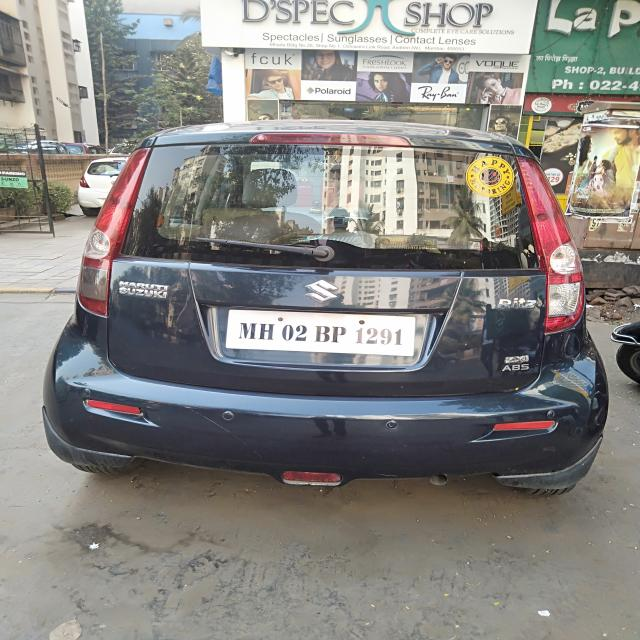Number-Plate: (226, 313, 414, 350)
